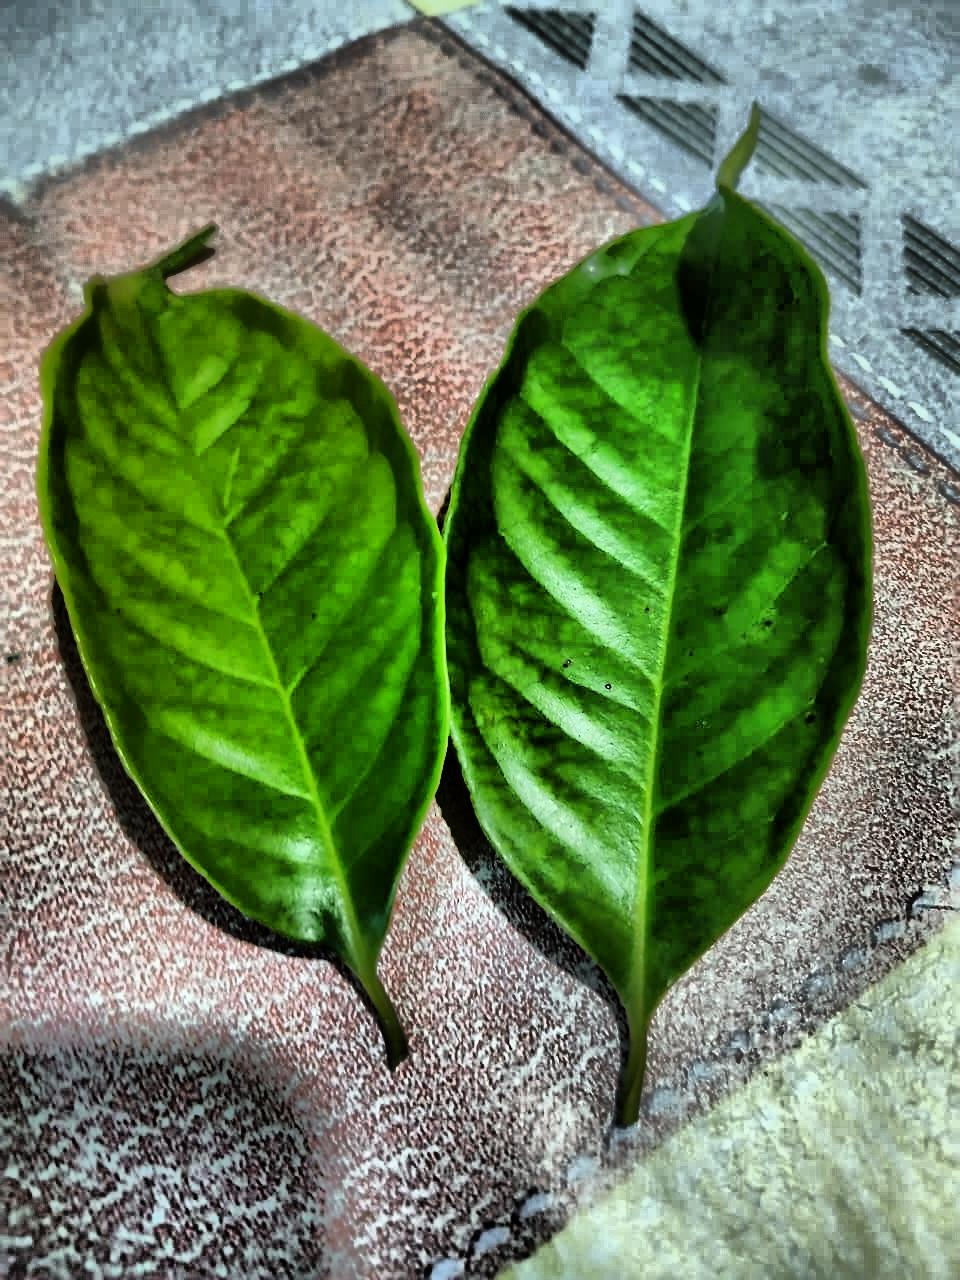daun salam: (447, 112, 871, 1122), (38, 228, 448, 1060)
